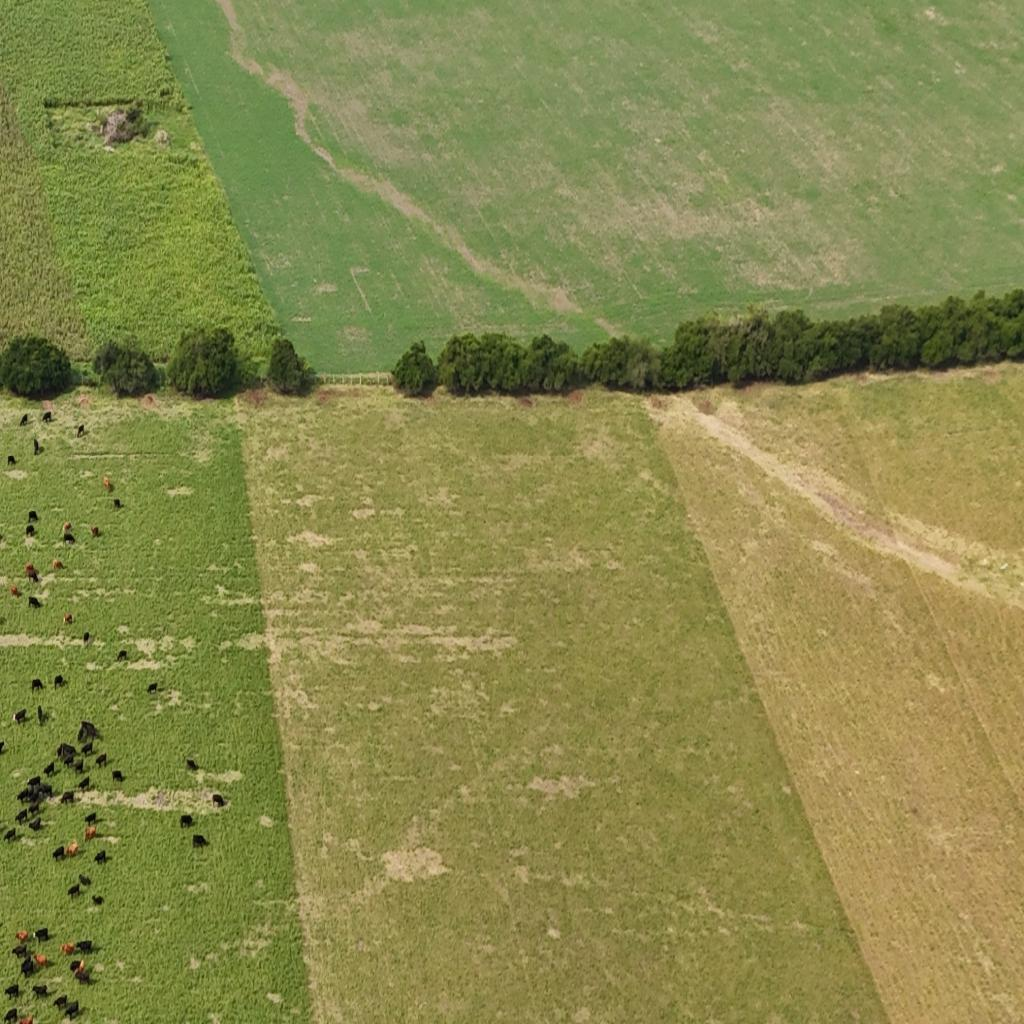cow: (78, 720, 101, 743), (57, 742, 76, 762), (16, 785, 36, 804), (64, 1000, 80, 1020), (20, 957, 36, 977), (72, 958, 86, 980), (34, 926, 52, 942), (4, 982, 20, 998), (12, 943, 28, 959), (26, 776, 42, 792), (76, 940, 93, 955), (3, 1008, 18, 1024), (43, 786, 58, 802), (32, 984, 49, 998), (78, 776, 92, 793), (26, 563, 38, 582), (192, 834, 208, 848), (65, 840, 79, 856), (32, 953, 48, 967), (54, 994, 68, 1010), (80, 740, 94, 756), (180, 814, 194, 829), (60, 942, 75, 956), (60, 791, 75, 805), (52, 846, 65, 862), (15, 808, 28, 824), (14, 709, 27, 724), (44, 760, 56, 776), (72, 758, 84, 774), (78, 873, 91, 887), (16, 929, 29, 943), (29, 817, 42, 831), (212, 793, 224, 808), (95, 753, 107, 768), (94, 850, 107, 863), (112, 770, 124, 784), (28, 596, 42, 608), (84, 826, 96, 840), (63, 532, 75, 546), (68, 884, 80, 898), (4, 828, 16, 842), (38, 704, 46, 724), (92, 894, 104, 907), (31, 679, 43, 692), (146, 682, 158, 694), (186, 759, 198, 771), (52, 558, 64, 570), (18, 1015, 34, 1024), (78, 395, 90, 407), (25, 524, 36, 537), (54, 675, 65, 687), (10, 584, 20, 597), (103, 476, 111, 492), (28, 511, 39, 522), (116, 650, 128, 660), (64, 612, 74, 624), (42, 412, 52, 424), (76, 424, 85, 437), (34, 439, 41, 455), (7, 455, 16, 467), (91, 525, 99, 537), (20, 414, 28, 426), (83, 632, 91, 644), (64, 521, 72, 533), (0, 741, 6, 755), (113, 498, 120, 508)
